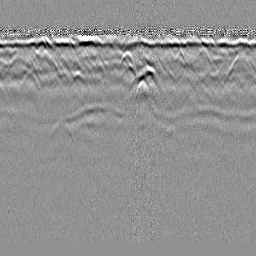cavity: (120, 50, 136, 68)
